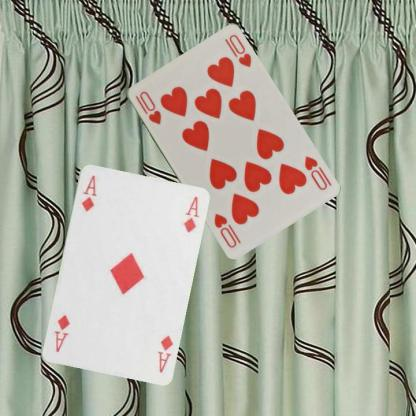10h: (132, 88, 162, 126), (301, 153, 328, 191)
Ad: (154, 332, 174, 374), (78, 172, 98, 213)
